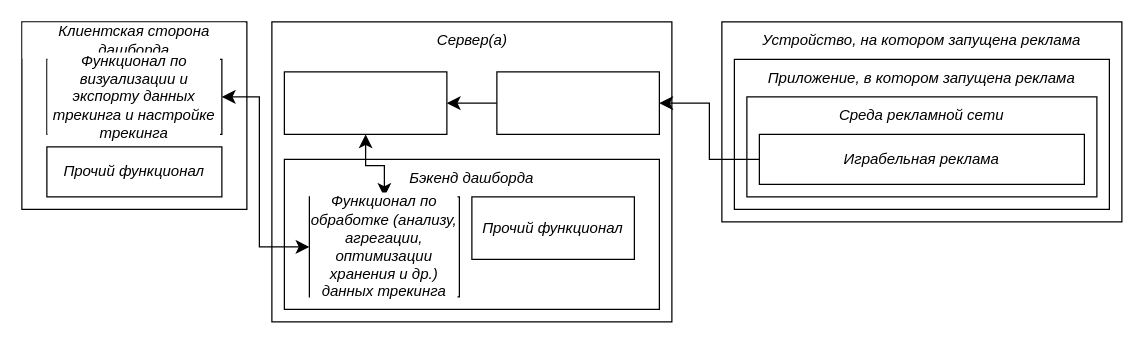
Image size: 1144x344. Some labels were removed from this diagram. Here are the shapes that lost their labels. From the top down, the centre of each, then its label:
point (365, 102): База данных
point (577, 102): Микросервис сбора данных
